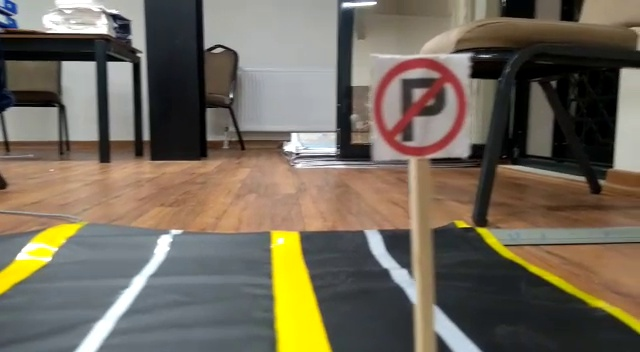park_yapilmaz: (368, 56, 466, 156)
